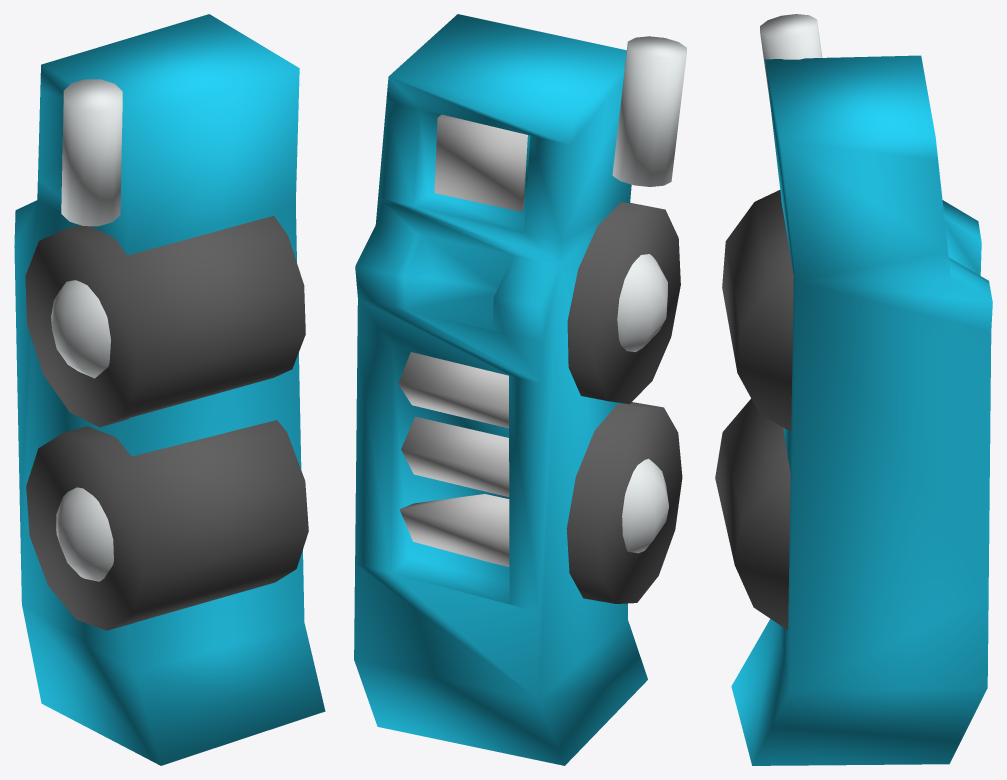
Rendered from shin_left.gltf.
3 renders of one model, left to right at view 1: azimuth 30°, elevation 25°; view 2: azimuth 150°, elevation 25°; view 3: azimuth 270°, elevation 25°, orthographic. The views are drawn at different scales.
Visible parts, largest first — view 1: group1744198726; view 2: group1744198726; view 3: group1744198726.
Boxes of the visible parts, left/top/right/bottom form: group1744198726: left=14, top=14, right=325, bottom=765; group1744198726: left=354, top=14, right=686, bottom=765; group1744198726: left=715, top=14, right=992, bottom=765.
Bounding box in the file's own units: 0.0882 × 0.2361 × 0.091.
